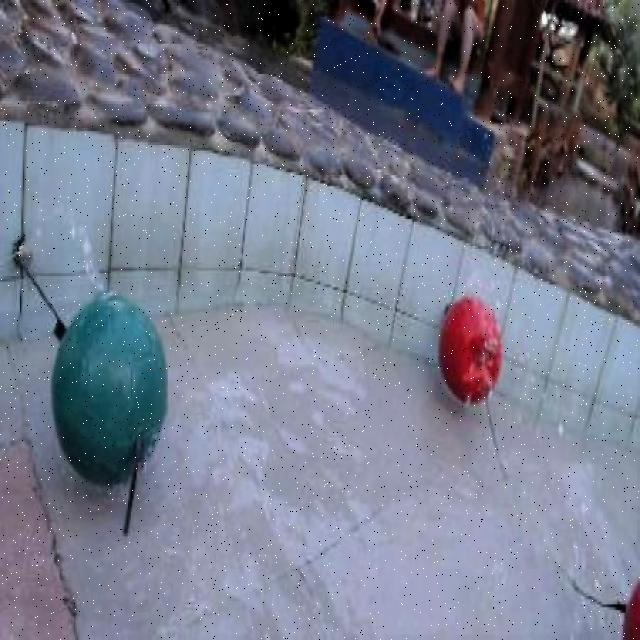buoy: (51, 295, 168, 487), (438, 294, 501, 400)
